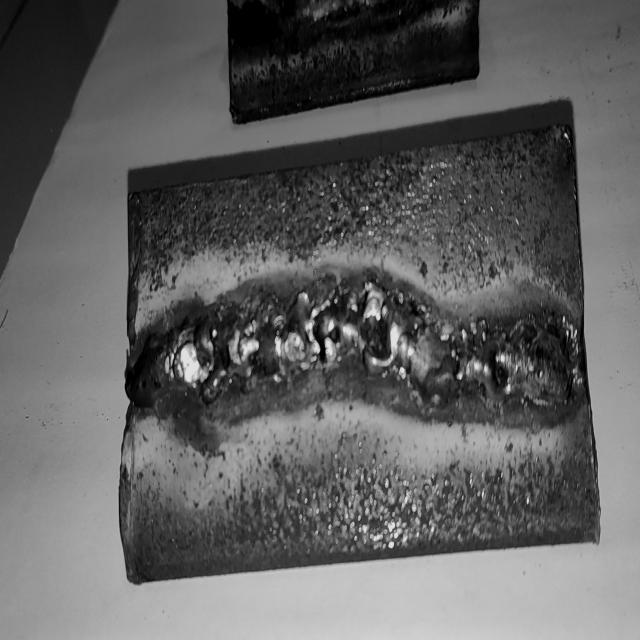Defect: (169, 282, 572, 405)
Welding Line: (145, 297, 570, 424)
Workpiece: (126, 122, 581, 578)
